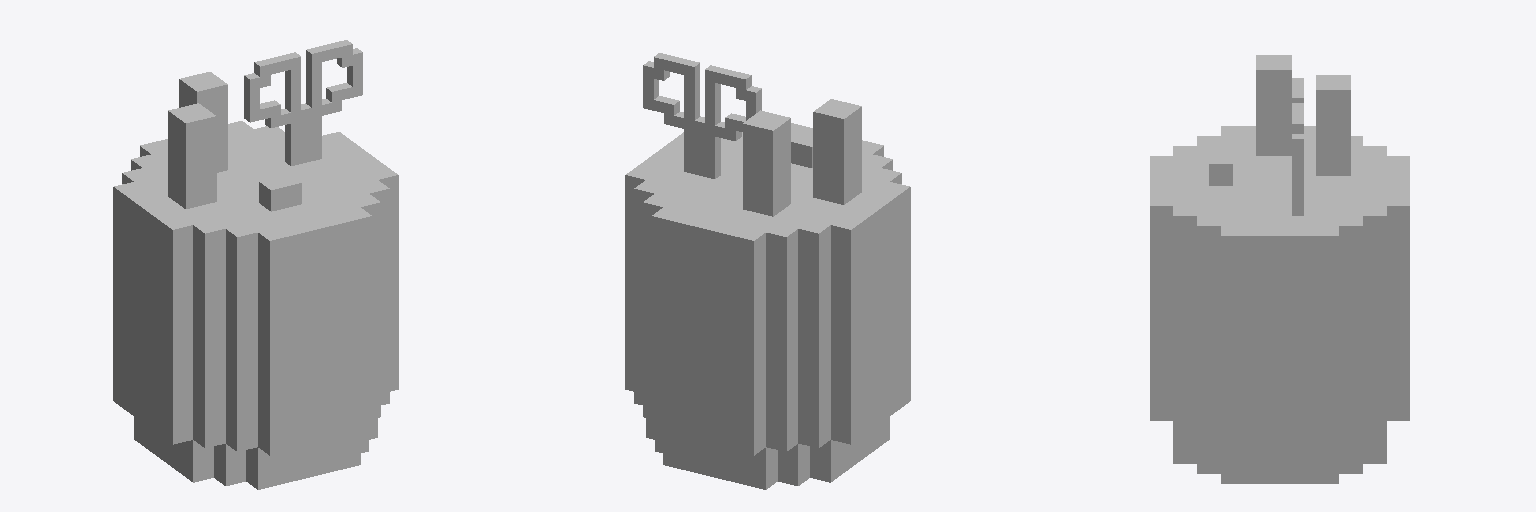
The model's file is CupONDesk 1.obj.
3 renders of one model, left to right at view 1: azimuth 30°, elevation 25°; view 2: azimuth 150°, elevation 25°; view 3: azimuth 270°, elevation 25°, orthographic.
Visible parts, largest first — view 1: CupONDesk; view 2: CupONDesk; view 3: CupONDesk.
Boxes of the visible parts, x1=… form: CupONDesk: x1=113, y1=40, x2=398, y2=489; CupONDesk: x1=625, y1=53, x2=910, y2=489; CupONDesk: x1=1150, y1=55, x2=1409, y2=483.
Size of the model in its own units: 22 by 34 by 22.